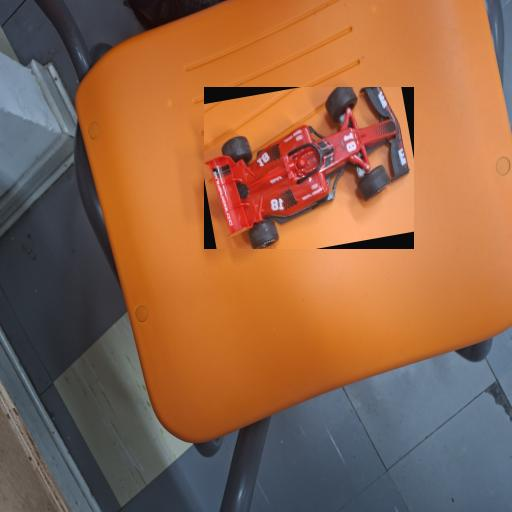carro: (204, 87, 414, 249)
